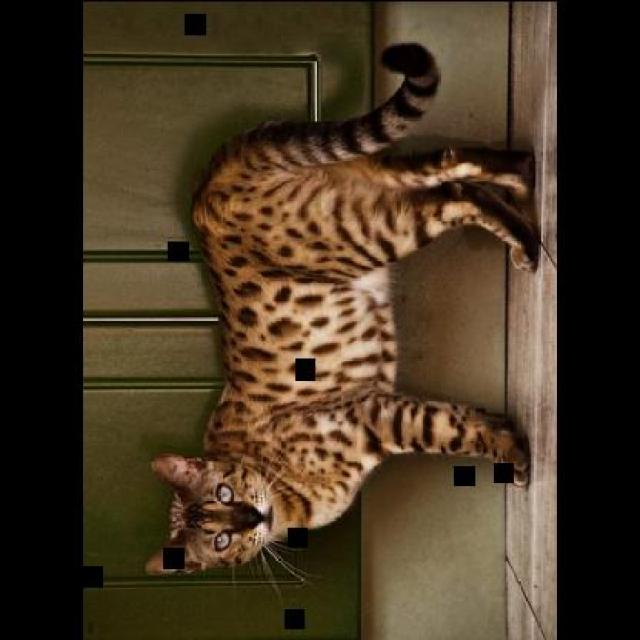unauthorized: (143, 40, 542, 597)
